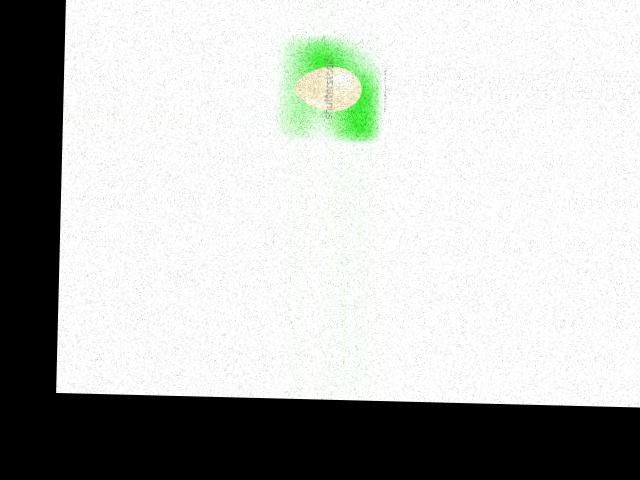egg: (295, 65, 362, 111)
